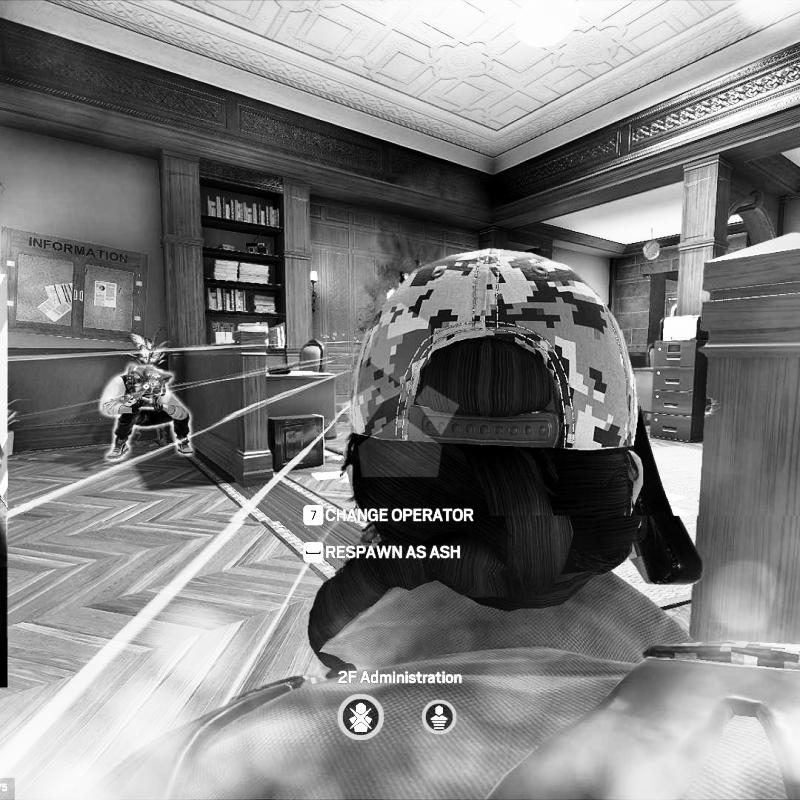Character: (87, 239, 800, 800), (99, 362, 196, 466)
Head: (344, 244, 654, 614), (136, 370, 164, 397)
